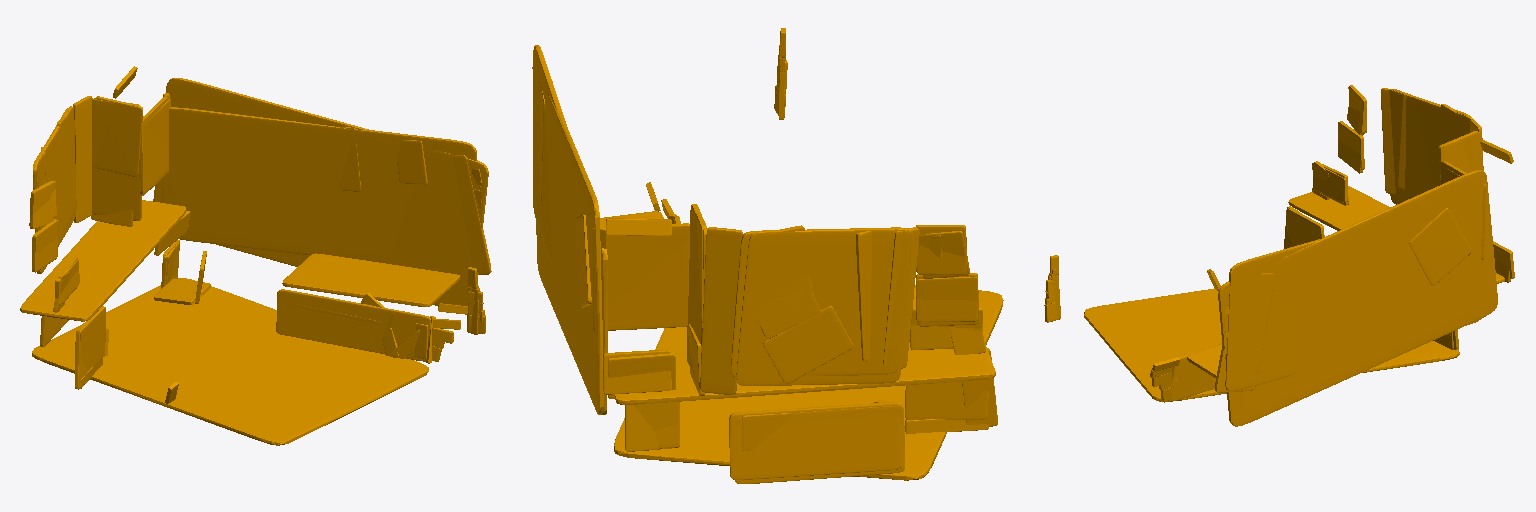
robot.urdf — scene:
<?xml version='1.0' encoding='utf-8'?>
<robot name="scene"><link name="scene_link"><visual><origin xyz="0.000000 0.000000 0.000000" rpy="0.000000 -0.000000 0.000000" /><geometry><mesh filename="part_000.obj" /></geometry></visual><collision><origin xyz="0.000000 0.000000 0.000000" rpy="0.000000 -0.000000 0.000000" /><geometry><mesh filename="part_000.obj" /></geometry></collision><visual><origin xyz="0.000000 0.000000 0.000000" rpy="0.000000 -0.000000 0.000000" /><geometry><mesh filename="part_001.obj" /></geometry></visual><collision><origin xyz="0.000000 0.000000 0.000000" rpy="0.000000 -0.000000 0.000000" /><geometry><mesh filename="part_001.obj" /></geometry></collision><visual><origin xyz="0.000000 0.000000 0.000000" rpy="0.000000 -0.000000 0.000000" /><geometry><mesh filename="part_002.obj" /></geometry></visual><collision><origin xyz="0.000000 0.000000 0.000000" rpy="0.000000 -0.000000 0.000000" /><geometry><mesh filename="part_002.obj" /></geometry></collision><visual><origin xyz="0.000000 0.000000 0.000000" rpy="0.000000 -0.000000 0.000000" /><geometry><mesh filename="part_003.obj" /></geometry></visual><collision><origin xyz="0.000000 0.000000 0.000000" rpy="0.000000 -0.000000 0.000000" /><geometry><mesh filename="part_003.obj" /></geometry></collision><visual><origin xyz="0.000000 0.000000 0.000000" rpy="0.000000 -0.000000 0.000000" /><geometry><mesh filename="part_004.obj" /></geometry></visual><collision><origin xyz="0.000000 0.000000 0.000000" rpy="0.000000 -0.000000 0.000000" /><geometry><mesh filename="part_004.obj" /></geometry></collision><visual><origin xyz="0.000000 0.000000 0.000000" rpy="0.000000 -0.000000 0.000000" /><geometry><mesh filename="part_005.obj" /></geometry></visual><collision><origin xyz="0.000000 0.000000 0.000000" rpy="0.000000 -0.000000 0.000000" /><geometry><mesh filename="part_005.obj" /></geometry></collision><visual><origin xyz="0.000000 0.000000 0.000000" rpy="0.000000 -0.000000 0.000000" /><geometry><mesh filename="part_006.obj" /></geometry></visual><collision><origin xyz="0.000000 0.000000 0.000000" rpy="0.000000 -0.000000 0.000000" /><geometry><mesh filename="part_006.obj" /></geometry></collision><visual><origin xyz="0.000000 0.000000 0.000000" rpy="0.000000 -0.000000 0.000000" /><geometry><mesh filename="part_007.obj" /></geometry></visual><collision><origin xyz="0.000000 0.000000 0.000000" rpy="0.000000 -0.000000 0.000000" /><geometry><mesh filename="part_007.obj" /></geometry></collision><visual><origin xyz="0.000000 0.000000 0.000000" rpy="0.000000 -0.000000 0.000000" /><geometry><mesh filename="part_008.obj" /></geometry></visual><collision><origin xyz="0.000000 0.000000 0.000000" rpy="0.000000 -0.000000 0.000000" /><geometry><mesh filename="part_008.obj" /></geometry></collision><visual><origin xyz="0.000000 0.000000 0.000000" rpy="0.000000 -0.000000 0.000000" /><geometry><mesh filename="part_009.obj" /></geometry></visual><collision><origin xyz="0.000000 0.000000 0.000000" rpy="0.000000 -0.000000 0.000000" /><geometry><mesh filename="part_009.obj" /></geometry></collision><visual><origin xyz="0.000000 0.000000 0.000000" rpy="0.000000 -0.000000 0.000000" /><geometry><mesh filename="part_010.obj" /></geometry></visual><collision><origin xyz="0.000000 0.000000 0.000000" rpy="0.000000 -0.000000 0.000000" /><geometry><mesh filename="part_010.obj" /></geometry></collision><visual><origin xyz="0.000000 0.000000 0.000000" rpy="0.000000 -0.000000 0.000000" /><geometry><mesh filename="part_011.obj" /></geometry></visual><collision><origin xyz="0.000000 0.000000 0.000000" rpy="0.000000 -0.000000 0.000000" /><geometry><mesh filename="part_011.obj" /></geometry></collision><visual><origin xyz="0.000000 0.000000 0.000000" rpy="0.000000 -0.000000 0.000000" /><geometry><mesh filename="part_012.obj" /></geometry></visual><collision><origin xyz="0.000000 0.000000 0.000000" rpy="0.000000 -0.000000 0.000000" /><geometry><mesh filename="part_012.obj" /></geometry></collision><visual><origin xyz="0.000000 0.000000 0.000000" rpy="0.000000 -0.000000 0.000000" /><geometry><mesh filename="part_013.obj" /></geometry></visual><collision><origin xyz="0.000000 0.000000 0.000000" rpy="0.000000 -0.000000 0.000000" /><geometry><mesh filename="part_013.obj" /></geometry></collision><visual><origin xyz="0.000000 0.000000 0.000000" rpy="0.000000 -0.000000 0.000000" /><geometry><mesh filename="part_014.obj" /></geometry></visual><collision><origin xyz="0.000000 0.000000 0.000000" rpy="0.000000 -0.000000 0.000000" /><geometry><mesh filename="part_014.obj" /></geometry></collision><visual><origin xyz="0.000000 0.000000 0.000000" rpy="0.000000 -0.000000 0.000000" /><geometry><mesh filename="part_015.obj" /></geometry></visual><collision><origin xyz="0.000000 0.000000 0.000000" rpy="0.000000 -0.000000 0.000000" /><geometry><mesh filename="part_015.obj" /></geometry></collision><visual><origin xyz="0.000000 0.000000 0.000000" rpy="0.000000 -0.000000 0.000000" /><geometry><mesh filename="part_016.obj" /></geometry></visual><collision><origin xyz="0.000000 0.000000 0.000000" rpy="0.000000 -0.000000 0.000000" /><geometry><mesh filename="part_016.obj" /></geometry></collision><visual><origin xyz="0.000000 0.000000 0.000000" rpy="0.000000 -0.000000 0.000000" /><geometry><mesh filename="part_017.obj" /></geometry></visual><collision><origin xyz="0.000000 0.000000 0.000000" rpy="0.000000 -0.000000 0.000000" /><geometry><mesh filename="part_017.obj" /></geometry></collision><visual><origin xyz="0.000000 0.000000 0.000000" rpy="0.000000 -0.000000 0.000000" /><geometry><mesh filename="part_018.obj" /></geometry></visual><collision><origin xyz="0.000000 0.000000 0.000000" rpy="0.000000 -0.000000 0.000000" /><geometry><mesh filename="part_018.obj" /></geometry></collision><visual><origin xyz="0.000000 0.000000 0.000000" rpy="0.000000 -0.000000 0.000000" /><geometry><mesh filename="part_019.obj" /></geometry></visual><collision><origin xyz="0.000000 0.000000 0.000000" rpy="0.000000 -0.000000 0.000000" /><geometry><mesh filename="part_019.obj" /></geometry></collision><visual><origin xyz="0.000000 0.000000 0.000000" rpy="0.000000 -0.000000 0.000000" /><geometry><mesh filename="part_020.obj" /></geometry></visual><collision><origin xyz="0.000000 0.000000 0.000000" rpy="0.000000 -0.000000 0.000000" /><geometry><mesh filename="part_020.obj" /></geometry></collision><visual><origin xyz="0.000000 0.000000 0.000000" rpy="0.000000 -0.000000 0.000000" /><geometry><mesh filename="part_021.obj" /></geometry></visual><collision><origin xyz="0.000000 0.000000 0.000000" rpy="0.000000 -0.000000 0.000000" /><geometry><mesh filename="part_021.obj" /></geometry></collision><visual><origin xyz="0.000000 0.000000 0.000000" rpy="0.000000 -0.000000 0.000000" /><geometry><mesh filename="part_022.obj" /></geometry></visual><collision><origin xyz="0.000000 0.000000 0.000000" rpy="0.000000 -0.000000 0.000000" /><geometry><mesh filename="part_022.obj" /></geometry></collision><visual><origin xyz="0.000000 0.000000 0.000000" rpy="0.000000 -0.000000 0.000000" /><geometry><mesh filename="part_023.obj" /></geometry></visual><collision><origin xyz="0.000000 0.000000 0.000000" rpy="0.000000 -0.000000 0.000000" /><geometry><mesh filename="part_023.obj" /></geometry></collision><visual><origin xyz="0.000000 0.000000 0.000000" rpy="0.000000 -0.000000 0.000000" /><geometry><mesh filename="part_024.obj" /></geometry></visual><collision><origin xyz="0.000000 0.000000 0.000000" rpy="0.000000 -0.000000 0.000000" /><geometry><mesh filename="part_024.obj" /></geometry></collision><visual><origin xyz="0.000000 0.000000 0.000000" rpy="0.000000 -0.000000 0.000000" /><geometry><mesh filename="part_025.obj" /></geometry></visual><collision><origin xyz="0.000000 0.000000 0.000000" rpy="0.000000 -0.000000 0.000000" /><geometry><mesh filename="part_025.obj" /></geometry></collision><visual><origin xyz="0.000000 0.000000 0.000000" rpy="0.000000 -0.000000 0.000000" /><geometry><mesh filename="part_026.obj" /></geometry></visual><collision><origin xyz="0.000000 0.000000 0.000000" rpy="0.000000 -0.000000 0.000000" /><geometry><mesh filename="part_026.obj" /></geometry></collision><visual><origin xyz="0.000000 0.000000 0.000000" rpy="0.000000 -0.000000 0.000000" /><geometry><mesh filename="part_027.obj" /></geometry></visual><collision><origin xyz="0.000000 0.000000 0.000000" rpy="0.000000 -0.000000 0.000000" /><geometry><mesh filename="part_027.obj" /></geometry></collision><visual><origin xyz="0.000000 0.000000 0.000000" rpy="0.000000 -0.000000 0.000000" /><geometry><mesh filename="part_028.obj" /></geometry></visual><collision><origin xyz="0.000000 0.000000 0.000000" rpy="0.000000 -0.000000 0.000000" /><geometry><mesh filename="part_028.obj" /></geometry></collision><visual><origin xyz="0.000000 0.000000 0.000000" rpy="0.000000 -0.000000 0.000000" /><geometry><mesh filename="part_029.obj" /></geometry></visual><collision><origin xyz="0.000000 0.000000 0.000000" rpy="0.000000 -0.000000 0.000000" /><geometry><mesh filename="part_029.obj" /></geometry></collision><visual><origin xyz="0.000000 0.000000 0.000000" rpy="0.000000 -0.000000 0.000000" /><geometry><mesh filename="part_030.obj" /></geometry></visual><collision><origin xyz="0.000000 0.000000 0.000000" rpy="0.000000 -0.000000 0.000000" /><geometry><mesh filename="part_030.obj" /></geometry></collision><visual><origin xyz="0.000000 0.000000 0.000000" rpy="0.000000 -0.000000 0.000000" /><geometry><mesh filename="part_031.obj" /></geometry></visual><collision><origin xyz="0.000000 0.000000 0.000000" rpy="0.000000 -0.000000 0.000000" /><geometry><mesh filename="part_031.obj" /></geometry></collision><visual><origin xyz="0.000000 0.000000 0.000000" rpy="0.000000 -0.000000 0.000000" /><geometry><mesh filename="part_032.obj" /></geometry></visual><collision><origin xyz="0.000000 0.000000 0.000000" rpy="0.000000 -0.000000 0.000000" /><geometry><mesh filename="part_032.obj" /></geometry></collision><visual><origin xyz="0.000000 0.000000 0.000000" rpy="0.000000 -0.000000 0.000000" /><geometry><mesh filename="part_033.obj" /></geometry></visual><collision><origin xyz="0.000000 0.000000 0.000000" rpy="0.000000 -0.000000 0.000000" /><geometry><mesh filename="part_033.obj" /></geometry></collision><visual><origin xyz="0.000000 0.000000 0.000000" rpy="0.000000 -0.000000 0.000000" /><geometry><mesh filename="part_034.obj" /></geometry></visual><collision><origin xyz="0.000000 0.000000 0.000000" rpy="0.000000 -0.000000 0.000000" /><geometry><mesh filename="part_034.obj" /></geometry></collision><visual><origin xyz="0.000000 0.000000 0.000000" rpy="0.000000 -0.000000 0.000000" /><geometry><mesh filename="part_035.obj" /></geometry></visual><collision><origin xyz="0.000000 0.000000 0.000000" rpy="0.000000 -0.000000 0.000000" /><geometry><mesh filename="part_035.obj" /></geometry></collision><visual><origin xyz="0.000000 0.000000 0.000000" rpy="0.000000 -0.000000 0.000000" /><geometry><mesh filename="part_036.obj" /></geometry></visual><collision><origin xyz="0.000000 0.000000 0.000000" rpy="0.000000 -0.000000 0.000000" /><geometry><mesh filename="part_036.obj" /></geometry></collision><visual><origin xyz="0.000000 0.000000 0.000000" rpy="0.000000 -0.000000 0.000000" /><geometry><mesh filename="part_037.obj" /></geometry></visual><collision><origin xyz="0.000000 0.000000 0.000000" rpy="0.000000 -0.000000 0.000000" /><geometry><mesh filename="part_037.obj" /></geometry></collision><visual><origin xyz="0.000000 0.000000 0.000000" rpy="0.000000 -0.000000 0.000000" /><geometry><mesh filename="part_038.obj" /></geometry></visual><collision><origin xyz="0.000000 0.000000 0.000000" rpy="0.000000 -0.000000 0.000000" /><geometry><mesh filename="part_038.obj" /></geometry></collision><visual><origin xyz="0.000000 0.000000 0.000000" rpy="0.000000 -0.000000 0.000000" /><geometry><mesh filename="part_039.obj" /></geometry></visual><collision><origin xyz="0.000000 0.000000 0.000000" rpy="0.000000 -0.000000 0.000000" /><geometry><mesh filename="part_039.obj" /></geometry></collision><visual><origin xyz="0.000000 0.000000 0.000000" rpy="0.000000 -0.000000 0.000000" /><geometry><mesh filename="part_040.obj" /></geometry></visual><collision><origin xyz="0.000000 0.000000 0.000000" rpy="0.000000 -0.000000 0.000000" /><geometry><mesh filename="part_040.obj" /></geometry></collision><visual><origin xyz="0.000000 0.000000 0.000000" rpy="0.000000 -0.000000 0.000000" /><geometry><mesh filename="part_041.obj" /></geometry></visual><collision><origin xyz="0.000000 0.000000 0.000000" rpy="0.000000 -0.000000 0.000000" /><geometry><mesh filename="part_041.obj" /></geometry></collision><visual><origin xyz="0.000000 0.000000 0.000000" rpy="0.000000 -0.000000 0.000000" /><geometry><mesh filename="part_042.obj" /></geometry></visual><collision><origin xyz="0.000000 0.000000 0.000000" rpy="0.000000 -0.000000 0.000000" /><geometry><mesh filename="part_042.obj" /></geometry></collision><visual><origin xyz="0.000000 0.000000 0.000000" rpy="0.000000 -0.000000 0.000000" /><geometry><mesh filename="part_043.obj" /></geometry></visual><collision><origin xyz="0.000000 0.000000 0.000000" rpy="0.000000 -0.000000 0.000000" /><geometry><mesh filename="part_043.obj" /></geometry></collision><visual><origin xyz="0.000000 0.000000 0.000000" rpy="0.000000 -0.000000 0.000000" /><geometry><mesh filename="part_044.obj" /></geometry></visual><collision><origin xyz="0.000000 0.000000 0.000000" rpy="0.000000 -0.000000 0.000000" /><geometry><mesh filename="part_044.obj" /></geometry></collision><visual><origin xyz="0.000000 0.000000 0.000000" rpy="0.000000 -0.000000 0.000000" /><geometry><mesh filename="part_045.obj" /></geometry></visual><collision><origin xyz="0.000000 0.000000 0.000000" rpy="0.000000 -0.000000 0.000000" /><geometry><mesh filename="part_045.obj" /></geometry></collision><visual><origin xyz="0.000000 0.000000 0.000000" rpy="0.000000 -0.000000 0.000000" /><geometry><mesh filename="part_046.obj" /></geometry></visual><collision><origin xyz="0.000000 0.000000 0.000000" rpy="0.000000 -0.000000 0.000000" /><geometry><mesh filename="part_046.obj" /></geometry></collision><visual><origin xyz="0.000000 0.000000 0.000000" rpy="0.000000 -0.000000 0.000000" /><geometry><mesh filename="part_047.obj" /></geometry></visual><collision><origin xyz="0.000000 0.000000 0.000000" rpy="0.000000 -0.000000 0.000000" /><geometry><mesh filename="part_047.obj" /></geometry></collision><visual><origin xyz="0.000000 0.000000 0.000000" rpy="0.000000 -0.000000 0.000000" /><geometry><mesh filename="part_048.obj" /></geometry></visual><collision><origin xyz="0.000000 0.000000 0.000000" rpy="0.000000 -0.000000 0.000000" /><geometry><mesh filename="part_048.obj" /></geometry></collision><visual><origin xyz="0.000000 0.000000 0.000000" rpy="0.000000 -0.000000 0.000000" /><geometry><mesh filename="part_049.obj" /></geometry></visual><collision><origin xyz="0.000000 0.000000 0.000000" rpy="0.000000 -0.000000 0.000000" /><geometry><mesh filename="part_049.obj" /></geometry></collision><visual><origin xyz="0.000000 0.000000 0.000000" rpy="0.000000 -0.000000 0.000000" /><geometry><mesh filename="part_050.obj" /></geometry></visual><collision><origin xyz="0.000000 0.000000 0.000000" rpy="0.000000 -0.000000 0.000000" /><geometry><mesh filename="part_050.obj" /></geometry></collision><visual><origin xyz="0.000000 0.000000 0.000000" rpy="0.000000 -0.000000 0.000000" /><geometry><mesh filename="part_051.obj" /></geometry></visual><collision><origin xyz="0.000000 0.000000 0.000000" rpy="0.000000 -0.000000 0.000000" /><geometry><mesh filename="part_051.obj" /></geometry></collision><visual><origin xyz="0.000000 0.000000 0.000000" rpy="0.000000 -0.000000 0.000000" /><geometry><mesh filename="part_052.obj" /></geometry></visual><collision><origin xyz="0.000000 0.000000 0.000000" rpy="0.000000 -0.000000 0.000000" /><geometry><mesh filename="part_052.obj" /></geometry></collision><visual><origin xyz="0.000000 0.000000 0.000000" rpy="0.000000 -0.000000 0.000000" /><geometry><mesh filename="part_053.obj" /></geometry></visual><collision><origin xyz="0.000000 0.000000 0.000000" rpy="0.000000 -0.000000 0.000000" /><geometry><mesh filename="part_053.obj" /></geometry></collision><visual><origin xyz="0.000000 0.000000 0.000000" rpy="0.000000 -0.000000 0.000000" /><geometry><mesh filename="part_054.obj" /></geometry></visual><collision><origin xyz="0.000000 0.000000 0.000000" rpy="0.000000 -0.000000 0.000000" /><geometry><mesh filename="part_054.obj" /></geometry></collision><visual><origin xyz="0.000000 0.000000 0.000000" rpy="0.000000 -0.000000 0.000000" /><geometry><mesh filename="part_055.obj" /></geometry></visual><collision><origin xyz="0.000000 0.000000 0.000000" rpy="0.000000 -0.000000 0.000000" /><geometry><mesh filename="part_055.obj" /></geometry></collision><visual><origin xyz="0.000000 0.000000 0.000000" rpy="0.000000 -0.000000 0.000000" /><geometry><mesh filename="part_056.obj" /></geometry></visual><collision><origin xyz="0.000000 0.000000 0.000000" rpy="0.000000 -0.000000 0.000000" /><geometry><mesh filename="part_056.obj" /></geometry></collision><visual><origin xyz="0.000000 0.000000 0.000000" rpy="0.000000 -0.000000 0.000000" /><geometry><mesh filename="part_057.obj" /></geometry></visual><collision><origin xyz="0.000000 0.000000 0.000000" rpy="0.000000 -0.000000 0.000000" /><geometry><mesh filename="part_057.obj" /></geometry></collision><visual><origin xyz="0.000000 0.000000 0.000000" rpy="0.000000 -0.000000 0.000000" /><geometry><mesh filename="part_058.obj" /></geometry></visual><collision><origin xyz="0.000000 0.000000 0.000000" rpy="0.000000 -0.000000 0.000000" /><geometry><mesh filename="part_058.obj" /></geometry></collision><visual><origin xyz="0.000000 0.000000 0.000000" rpy="0.000000 -0.000000 0.000000" /><geometry><mesh filename="part_059.obj" /></geometry></visual><collision><origin xyz="0.000000 0.000000 0.000000" rpy="0.000000 -0.000000 0.000000" /><geometry><mesh filename="part_059.obj" /></geometry></collision><visual><origin xyz="0.000000 0.000000 0.000000" rpy="0.000000 -0.000000 0.000000" /><geometry><mesh filename="part_060.obj" /></geometry></visual><collision><origin xyz="0.000000 0.000000 0.000000" rpy="0.000000 -0.000000 0.000000" /><geometry><mesh filename="part_060.obj" /></geometry></collision><visual><origin xyz="0.000000 0.000000 0.000000" rpy="0.000000 -0.000000 0.000000" /><geometry><mesh filename="part_061.obj" /></geometry></visual><collision><origin xyz="0.000000 0.000000 0.000000" rpy="0.000000 -0.000000 0.000000" /><geometry><mesh filename="part_061.obj" /></geometry></collision><visual><origin xyz="0.000000 0.000000 0.000000" rpy="0.000000 -0.000000 0.000000" /><geometry><mesh filename="part_062.obj" /></geometry></visual><collision><origin xyz="0.000000 0.000000 0.000000" rpy="0.000000 -0.000000 0.000000" /><geometry><mesh filename="part_062.obj" /></geometry></collision><visual><origin xyz="0.000000 0.000000 0.000000" rpy="0.000000 -0.000000 0.000000" /><geometry><mesh filename="part_063.obj" /></geometry></visual><collision><origin xyz="0.000000 0.000000 0.000000" rpy="0.000000 -0.000000 0.000000" /><geometry><mesh filename="part_063.obj" /></geometry></collision><visual><origin xyz="0.000000 0.000000 0.000000" rpy="0.000000 -0.000000 0.000000" /><geometry><mesh filename="part_064.obj" /></geometry></visual><collision><origin xyz="0.000000 0.000000 0.000000" rpy="0.000000 -0.000000 0.000000" /><geometry><mesh filename="part_064.obj" /></geometry></collision><visual><origin xyz="0.000000 0.000000 0.000000" rpy="0.000000 -0.000000 0.000000" /><geometry><mesh filename="part_065.obj" /></geometry></visual><collision><origin xyz="0.000000 0.000000 0.000000" rpy="0.000000 -0.000000 0.000000" /><geometry><mesh filename="part_065.obj" /></geometry></collision><visual><origin xyz="0.000000 0.000000 0.000000" rpy="0.000000 -0.000000 0.000000" /><geometry><mesh filename="part_066.obj" /></geometry></visual><collision><origin xyz="0.000000 0.000000 0.000000" rpy="0.000000 -0.000000 0.000000" /><geometry><mesh filename="part_066.obj" /></geometry></collision><visual><origin xyz="0.000000 0.000000 0.000000" rpy="0.000000 -0.000000 0.000000" /><geometry><mesh filename="part_067.obj" /></geometry></visual><collision><origin xyz="0.000000 0.000000 0.000000" rpy="0.000000 -0.000000 0.000000" /><geometry><mesh filename="part_067.obj" /></geometry></collision><visual><origin xyz="0.000000 0.000000 0.000000" rpy="0.000000 -0.000000 0.000000" /><geometry><mesh filename="part_068.obj" /></geometry></visual><collision><origin xyz="0.000000 0.000000 0.000000" rpy="0.000000 -0.000000 0.000000" /><geometry><mesh filename="part_068.obj" /></geometry></collision><visual><origin xyz="0.000000 0.000000 0.000000" rpy="0.000000 -0.000000 0.000000" /><geometry><mesh filename="part_069.obj" /></geometry></visual><collision><origin xyz="0.000000 0.000000 0.000000" rpy="0.000000 -0.000000 0.000000" /><geometry><mesh filename="part_069.obj" /></geometry></collision><visual><origin xyz="0.000000 0.000000 0.000000" rpy="0.000000 -0.000000 0.000000" /><geometry><mesh filename="part_070.obj" /></geometry></visual><collision><origin xyz="0.000000 0.000000 0.000000" rpy="0.000000 -0.000000 0.000000" /><geometry><mesh filename="part_070.obj" /></geometry></collision><visual><origin xyz="0.000000 0.000000 0.000000" rpy="0.000000 -0.000000 0.000000" /><geometry><mesh filename="part_071.obj" /></geometry></visual><collision><origin xyz="0.000000 0.000000 0.000000" rpy="0.000000 -0.000000 0.000000" /><geometry><mesh filename="part_071.obj" /></geometry></collision><visual><origin xyz="0.000000 0.000000 0.000000" rpy="0.000000 -0.000000 0.000000" /><geometry><mesh filename="part_072.obj" /></geometry></visual><collision><origin xyz="0.000000 0.000000 0.000000" rpy="0.000000 -0.000000 0.000000" /><geometry><mesh filename="part_072.obj" /></geometry></collision><visual><origin xyz="0.000000 0.000000 0.000000" rpy="0.000000 -0.000000 0.000000" /><geometry><mesh filename="part_073.obj" /></geometry></visual><collision><origin xyz="0.000000 0.000000 0.000000" rpy="0.000000 -0.000000 0.000000" /><geometry><mesh filename="part_073.obj" /></geometry></collision><visual><origin xyz="0.000000 0.000000 0.000000" rpy="0.000000 -0.000000 0.000000" /><geometry><mesh filename="part_074.obj" /></geometry></visual><collision><origin xyz="0.000000 0.000000 0.000000" rpy="0.000000 -0.000000 0.000000" /><geometry><mesh filename="part_074.obj" /></geometry></collision><visual><origin xyz="0.000000 0.000000 0.000000" rpy="0.000000 -0.000000 0.000000" /><geometry><mesh filename="part_075.obj" /></geometry></visual><collision><origin xyz="0.000000 0.000000 0.000000" rpy="0.000000 -0.000000 0.000000" /><geometry><mesh filename="part_075.obj" /></geometry></collision><visual><origin xyz="0.000000 0.000000 0.000000" rpy="0.000000 -0.000000 0.000000" /><geometry><mesh filename="part_076.obj" /></geometry></visual><collision><origin xyz="0.000000 0.000000 0.000000" rpy="0.000000 -0.000000 0.000000" /><geometry><mesh filename="part_076.obj" /></geometry></collision><visual><origin xyz="0.000000 0.000000 0.000000" rpy="0.000000 -0.000000 0.000000" /><geometry><mesh filename="part_077.obj" /></geometry></visual><collision><origin xyz="0.000000 0.000000 0.000000" rpy="0.000000 -0.000000 0.000000" /><geometry><mesh filename="part_077.obj" /></geometry></collision><visual><origin xyz="0.000000 0.000000 0.000000" rpy="0.000000 -0.000000 0.000000" /><geometry><mesh filename="part_078.obj" /></geometry></visual><collision><origin xyz="0.000000 0.000000 0.000000" rpy="0.000000 -0.000000 0.000000" /><geometry><mesh filename="part_078.obj" /></geometry></collision></link></robot>

--- What the picture shows (computed from the rendered views, not written in the file) ---
3 views of the same robot in one strip: view 1: azimuth 30°, elevation 25°; view 2: azimuth 150°, elevation 25°; view 3: azimuth 270°, elevation 25° (orthographic).
Robot: scene — 1 links, 0 joints (none); root link scene_link; default pose: all joints at 0.
Visible links, largest first — view 1: scene_link; view 2: scene_link; view 3: scene_link.
Link boxes in pixels (x1,y1,x2,y2): scene_link: [20, 66, 491, 445]; scene_link: [532, 28, 1003, 483]; scene_link: [1044, 85, 1514, 426].
Bounding box of the posed robot: 4.49 × 4.63 × 2.13 m (x, y, z).
79 mesh visuals loaded from 79 distinct referenced files (79 OBJ).